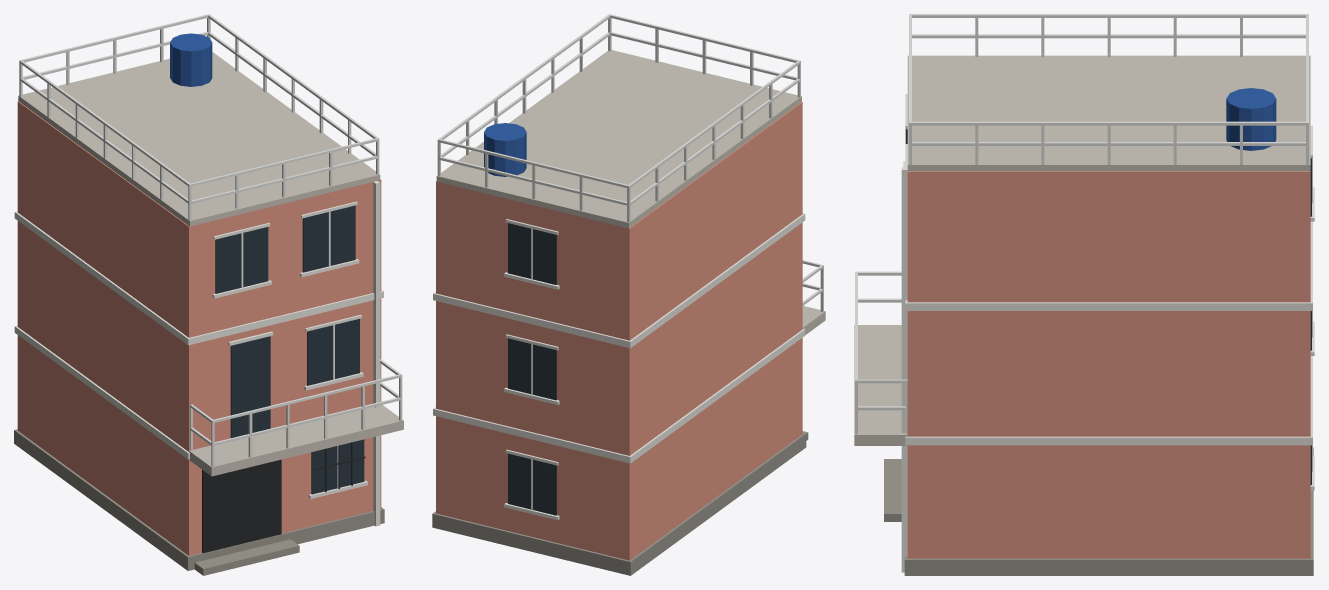
Rendered from BAY_F_ThreeStorey_A.glb.
The picture shows the model from 3 angles, left to right: view 1: azimuth 30°, elevation 25°; view 2: azimuth 150°, elevation 25°; view 3: azimuth 270°, elevation 25°; orthographic projection. The views are drawn at different scales.
Visible parts, largest first — view 1: BAY_F_ThreeStorey_A; view 2: BAY_F_ThreeStorey_A; view 3: BAY_F_ThreeStorey_A.
Part boxes in pixels (box(x1,y1,x2,y2)): BAY_F_ThreeStorey_A: box(14, 14, 403, 575); BAY_F_ThreeStorey_A: box(432, 14, 825, 575); BAY_F_ThreeStorey_A: box(854, 14, 1314, 575).
Bounding box in the file's own units: 4.5 × 8.4 × 7.77.
1 material, 1 textured.
